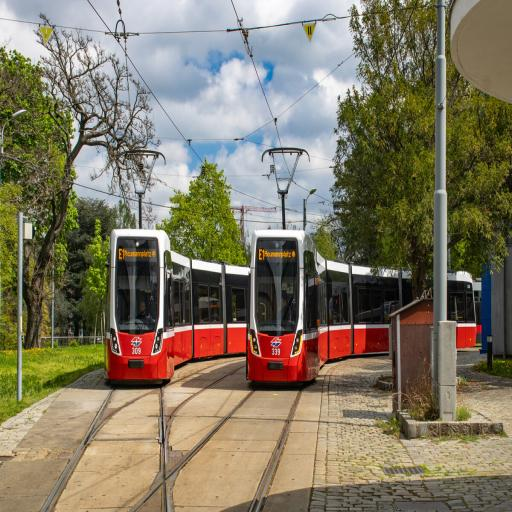Flexity: (246, 230, 476, 385), (104, 228, 248, 382)
